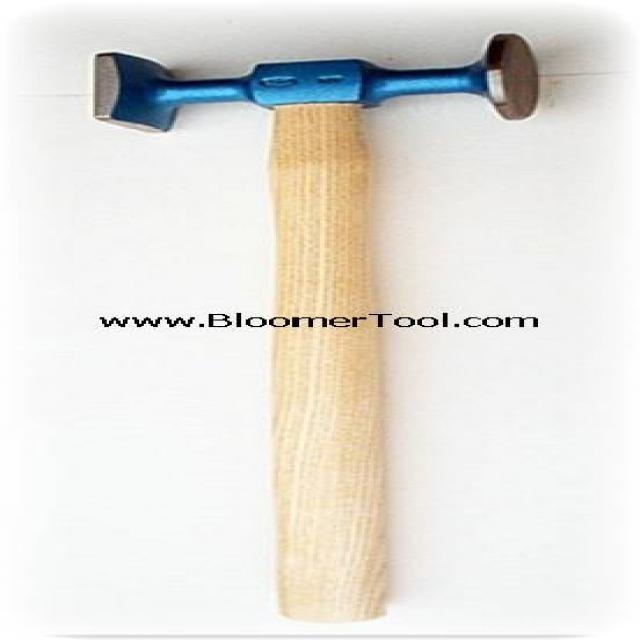hammer: (66, 28, 577, 624)
